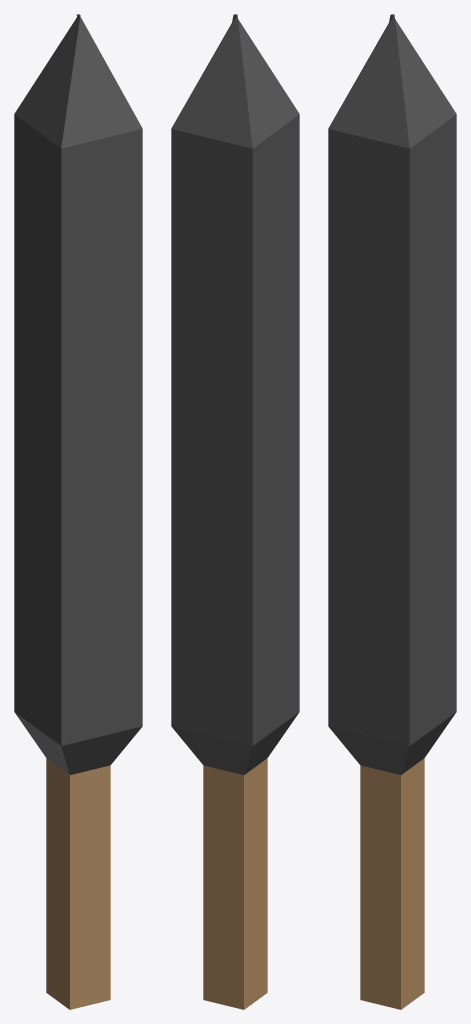
File: sword.fbx
3 views of the same model, side by side, from view 1: azimuth 30°, elevation 25°; view 2: azimuth 150°, elevation 25°; view 3: azimuth 330°, elevation 25° (orthographic).
Visible parts, largest first — view 1: Cube; view 2: Cube; view 3: Cube.
Boxes of the visible parts, x1,y1,x2,y2 form: Cube: (14, 14, 142, 1009); Cube: (171, 14, 299, 1009); Cube: (328, 14, 456, 1009).
Size of the model in its own units: 400 by 4600 by 400.
